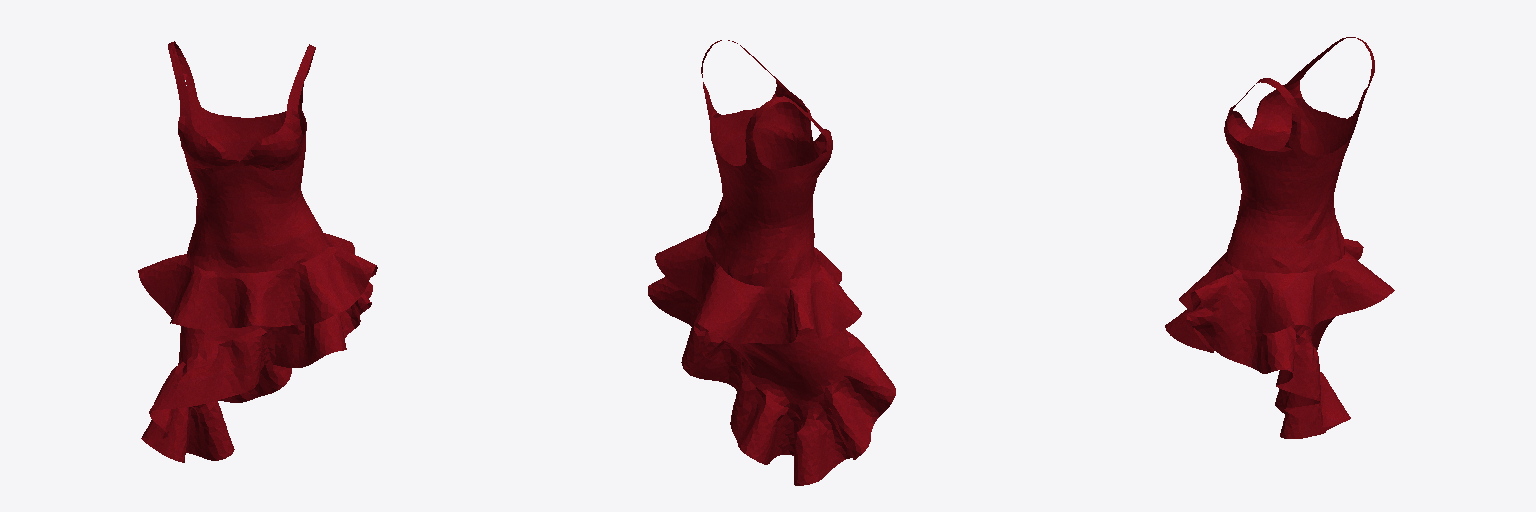
3 renders of one model, left to right at view 1: azimuth 30°, elevation 25°; view 2: azimuth 150°, elevation 25°; view 3: azimuth 270°, elevation 25°, orthographic.
Size of the model in its own units: 59.4 by 97.52 by 50.47.
2 materials, 1 textured.